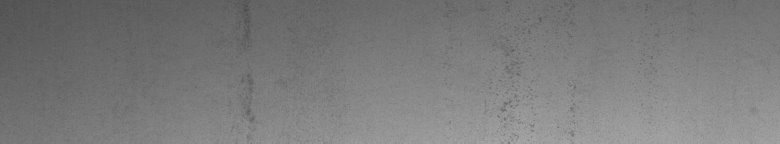ib: (497, 17, 575, 136)
